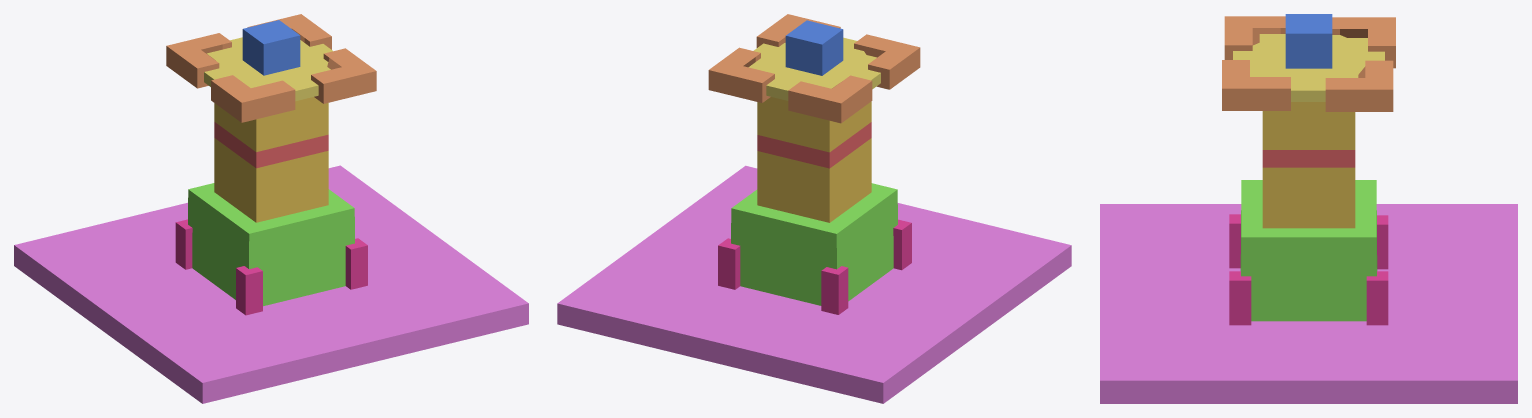
Rendered from turret_Lv1.fbx.
The picture shows the model from 3 angles, left to right: view 1: azimuth 30°, elevation 25°; view 2: azimuth 150°, elevation 25°; view 3: azimuth 270°, elevation 25°; orthographic projection. The views are drawn at different scales.
Visible parts, largest first — view 1: Cube.004; view 2: Cube.004; view 3: Cube.004.
Boxes of the visible parts, x1,y1,x2,y2 form: Cube.004: (14, 14, 528, 403); Cube.004: (557, 14, 1071, 403); Cube.004: (1100, 14, 1517, 403).
Size of the model in its own units: 200 by 154 by 200.
